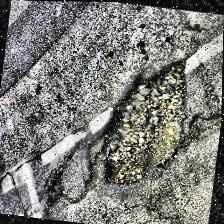pothole: (77, 49, 193, 191)
